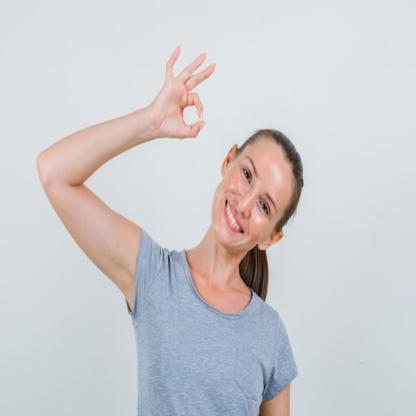ok: (156, 42, 219, 142)
